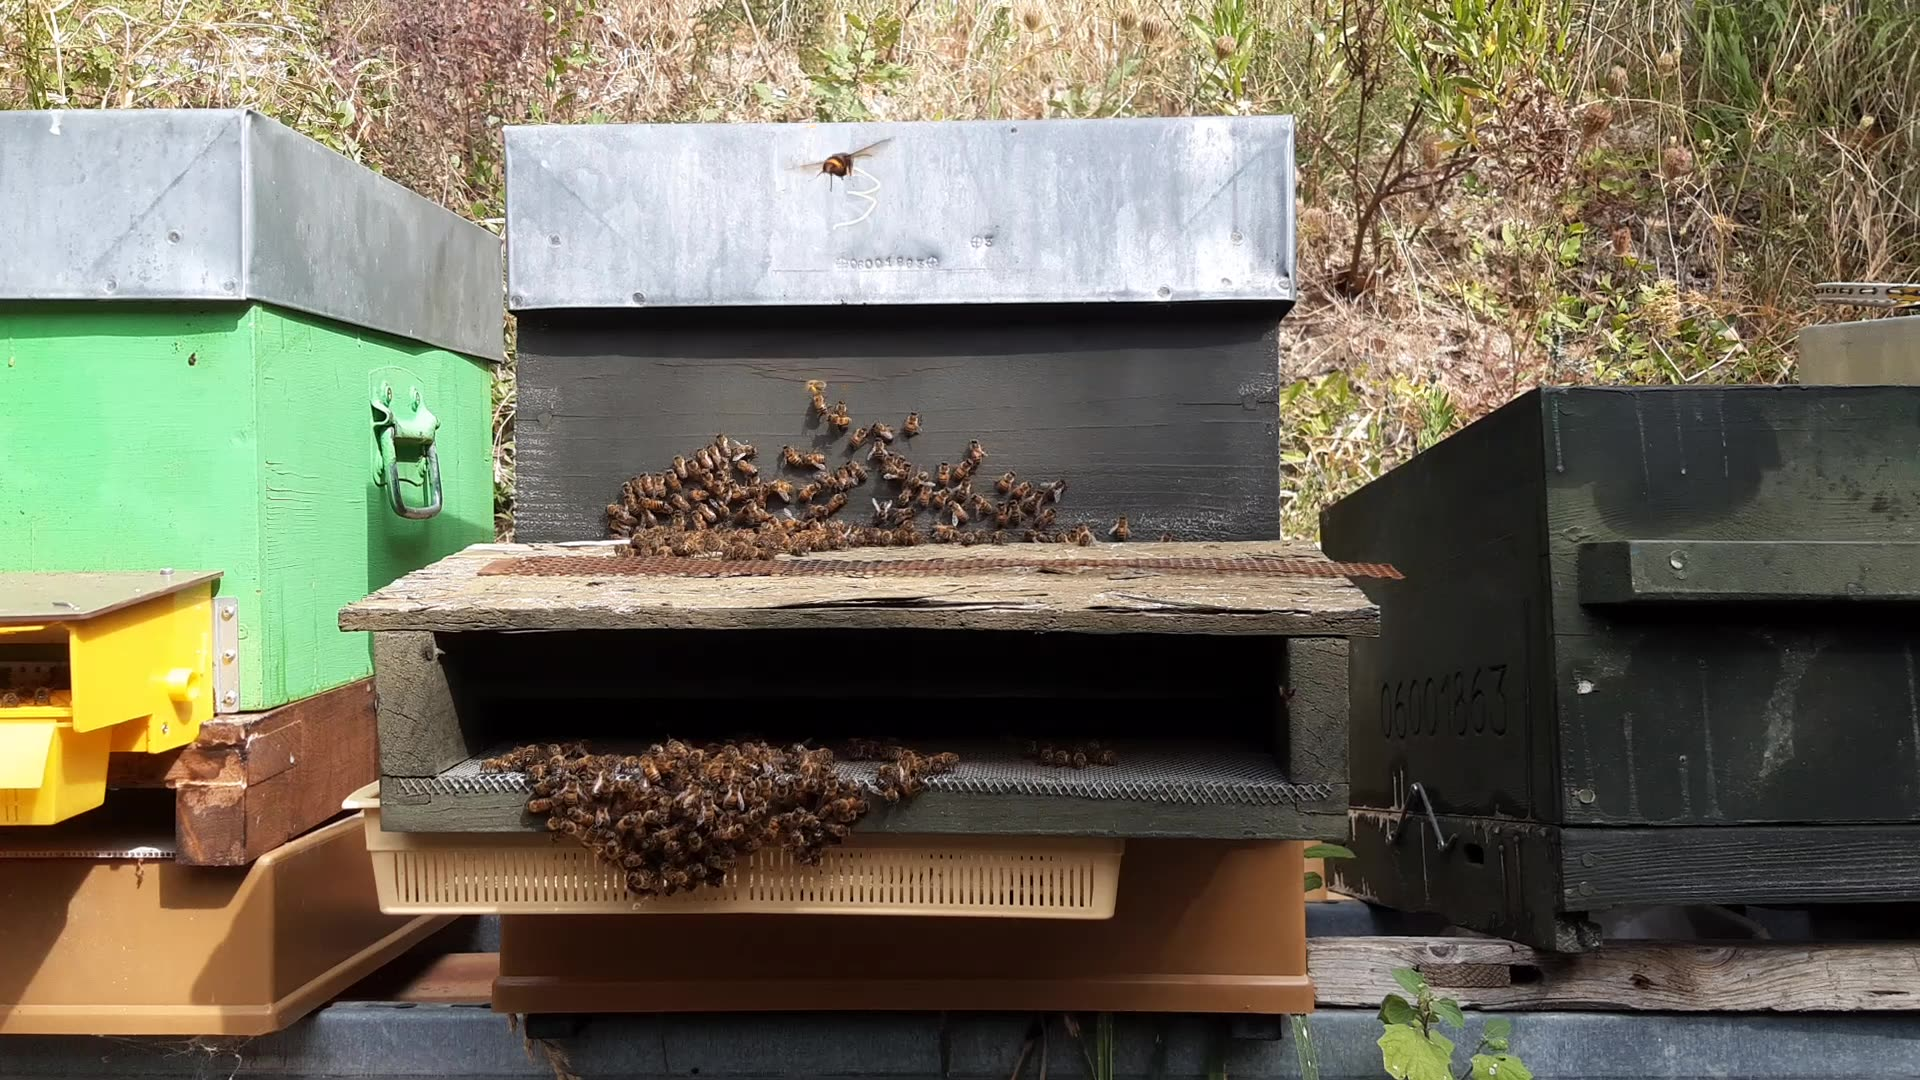bee: (709, 728, 804, 787), (645, 825, 725, 895), (829, 495, 928, 549), (517, 803, 584, 868), (632, 732, 723, 775), (491, 738, 576, 785), (843, 468, 905, 525), (942, 450, 1004, 505), (596, 505, 667, 553), (728, 455, 794, 505), (1043, 493, 1112, 541), (644, 463, 707, 508), (818, 414, 876, 459)
